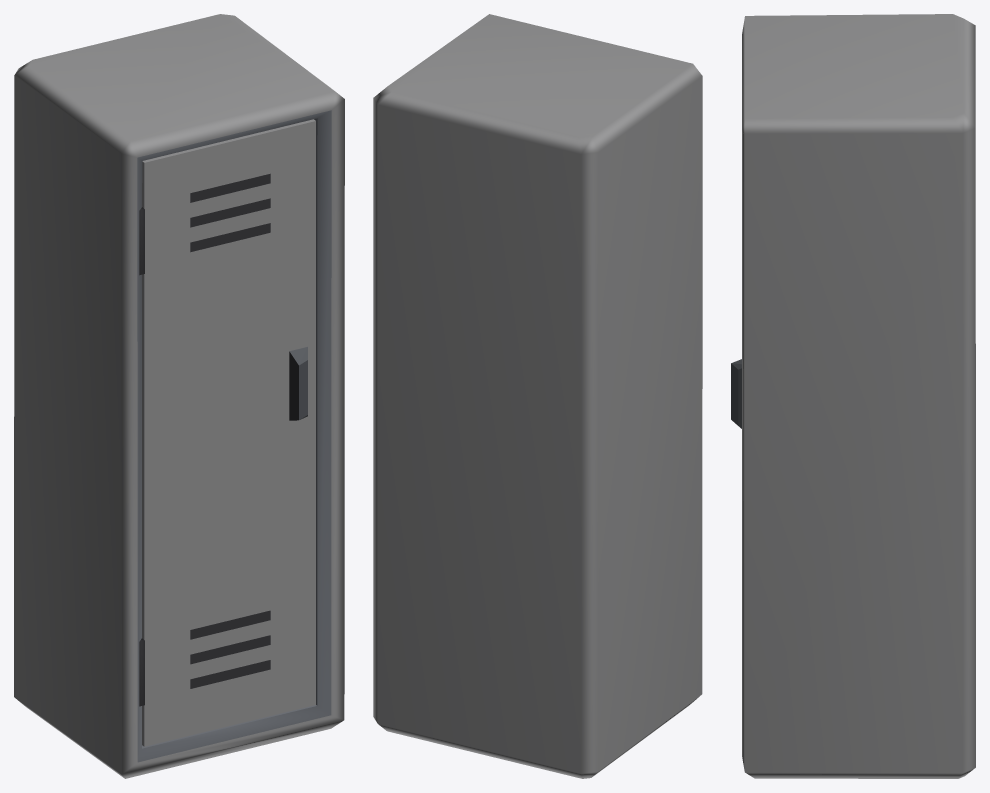
The model's file is locker.fbx.
The picture shows the model from 3 angles, left to right: view 1: azimuth 30°, elevation 25°; view 2: azimuth 150°, elevation 25°; view 3: azimuth 270°, elevation 25°; orthographic projection. The views are drawn at different scales.
Parts seen in each view (by area): view 1: LockerBasic, LockerBasicDoor; view 2: LockerBasic; view 3: LockerBasic, LockerBasicDoor.
Boxes of the visible parts, bbox=[...] form: LockerBasic: bbox=[14, 14, 344, 778]; LockerBasicDoor: bbox=[142, 119, 315, 746]; LockerBasic: bbox=[373, 14, 702, 778]; LockerBasic: bbox=[742, 14, 975, 778]; LockerBasicDoor: bbox=[731, 359, 741, 428].
Size of the model in its own units: 63.29 by 172 by 57.72.
